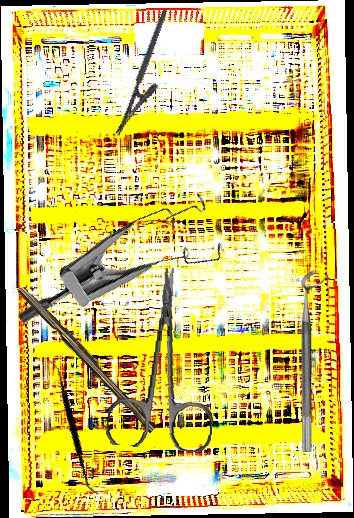Fixation Ring: (301, 270, 327, 452)
Iris Scissors: (105, 263, 226, 454)
Needle Holder: (114, 8, 185, 144)
Scalpel Handle: (15, 283, 161, 434)
Spatula Surgical: (3, 358, 145, 497)
Speculum: (15, 163, 242, 389)
